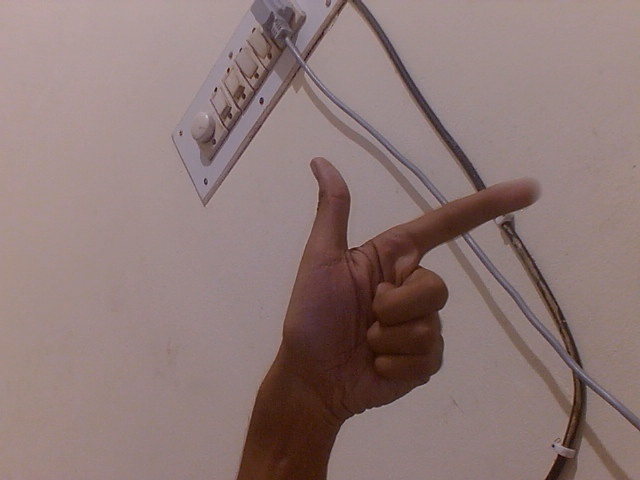hand: (264, 150, 544, 440)
